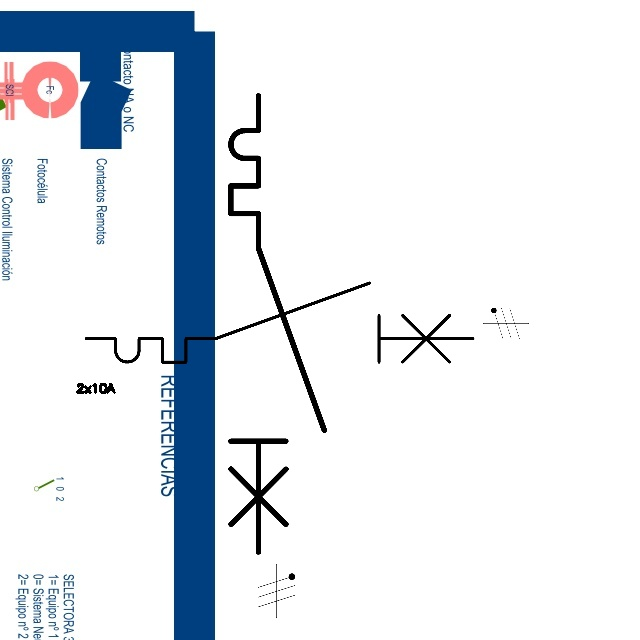interruptor_termomagnetico: (219, 84, 336, 564), (76, 273, 483, 372)
